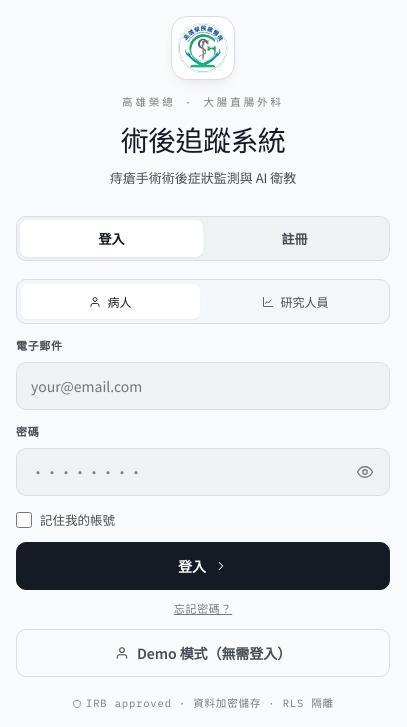
Login Page › shows loading state during submission
The width and height of the screenshot is (407, 727).
Type "test@test.com" into the field with placeholder "your@email.com" at coordinates (203, 386), box [16,362,390,410]
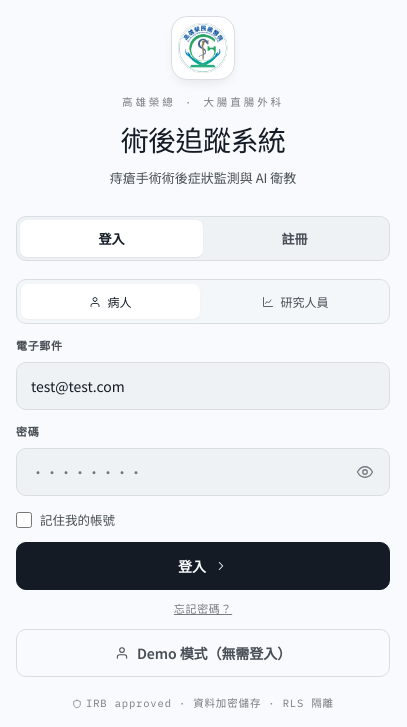
Type "pass123" into the password field with placeholder "••••••••" at coordinates (203, 472), box [16,448,390,496]
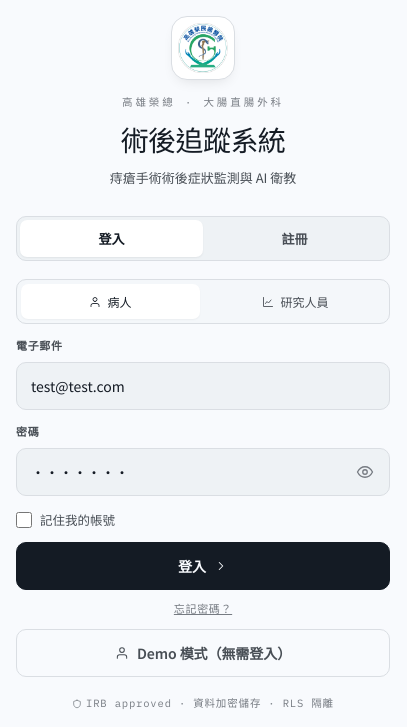
Submit the form from the submit button, box [16,542,390,590]
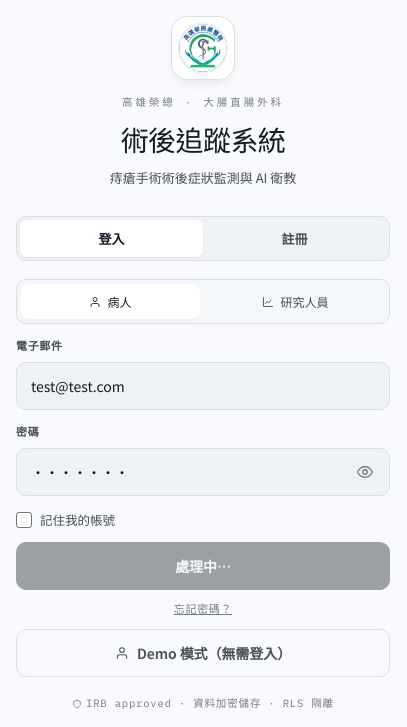
Expected: the button "處理中…" is shown, [16,542,390,590]
